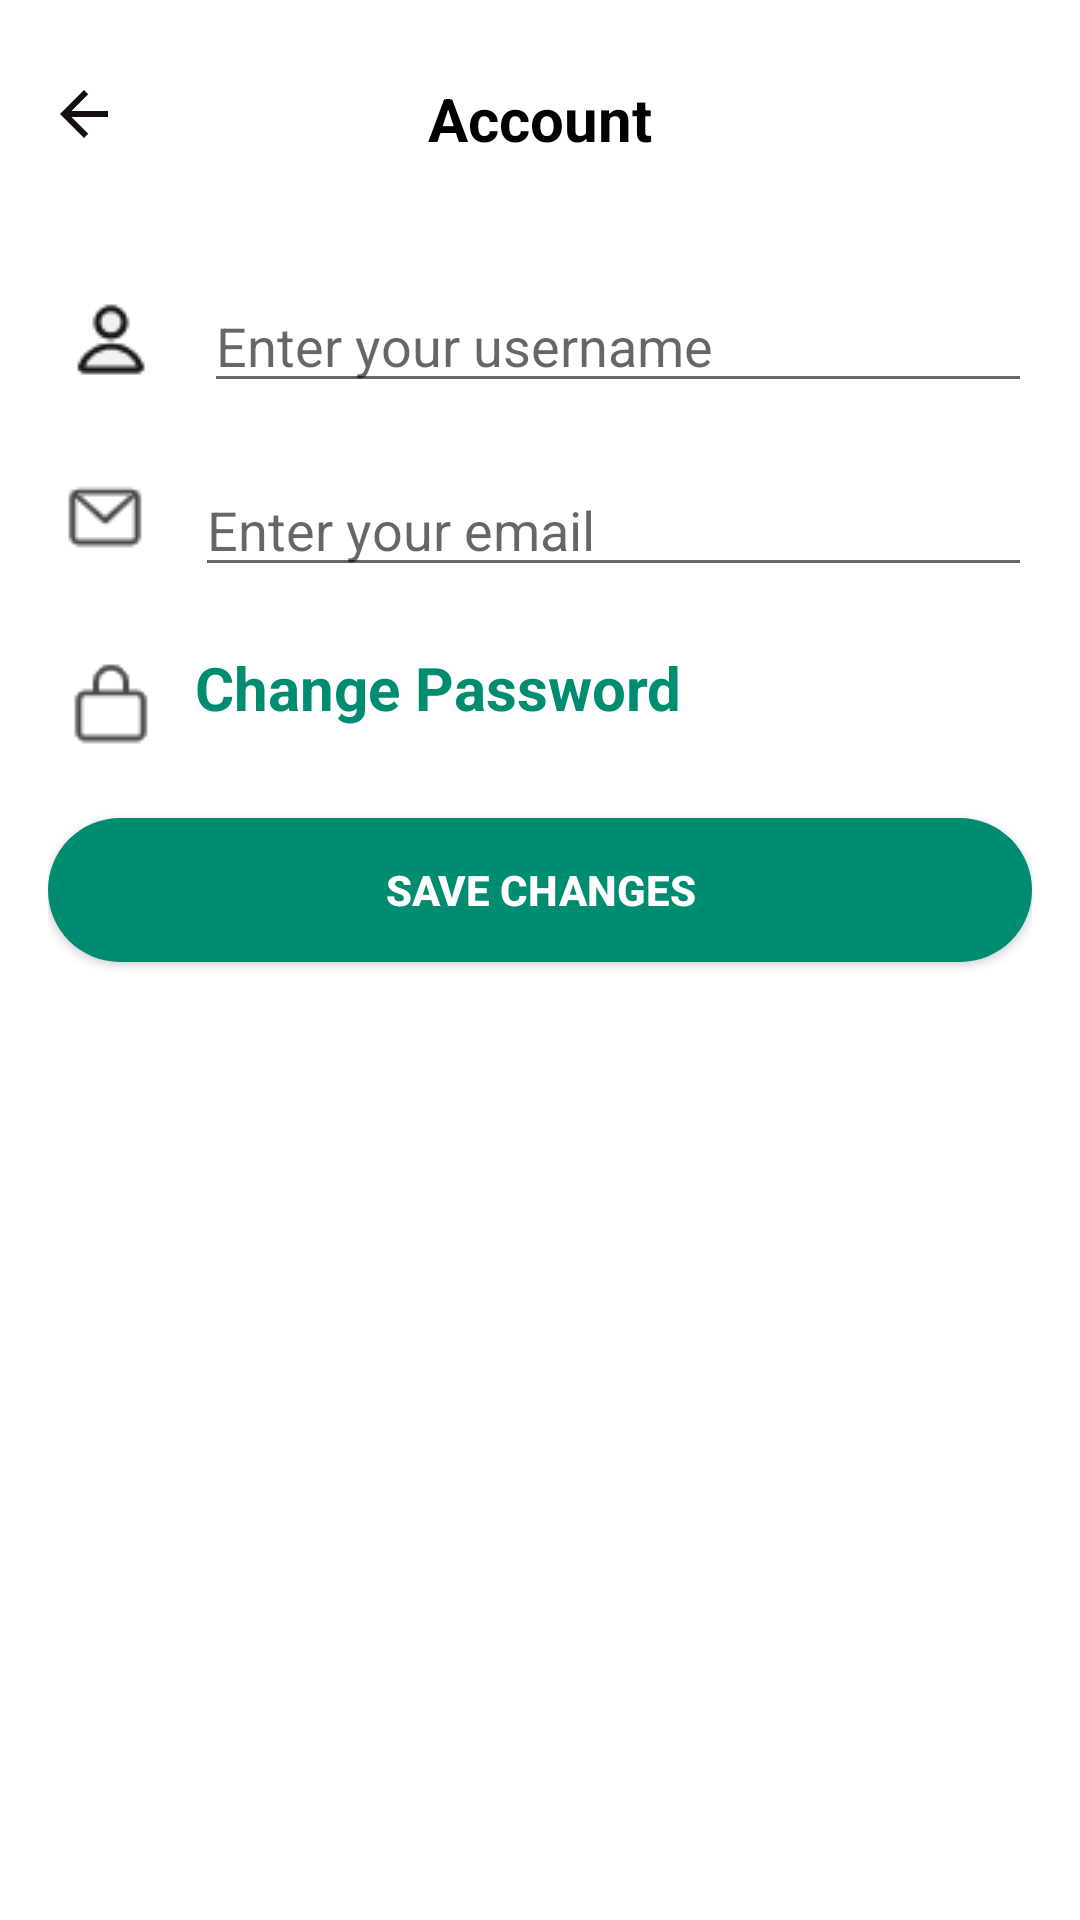

Icon click points for this 1080 x 1920 phone screenshot, format point (x, y):
Back: point (84, 114)
